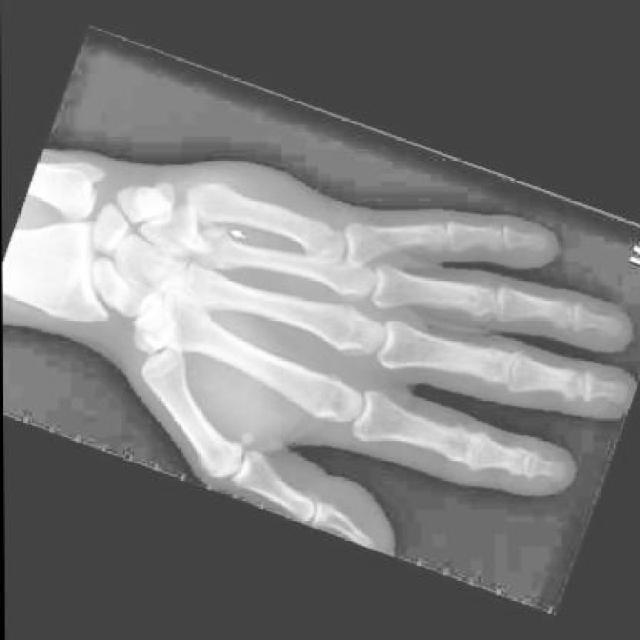Fracture: (291, 212, 358, 271)
